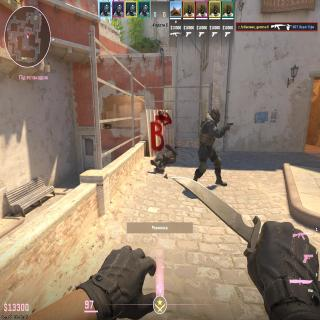CT-Body: (197, 107, 221, 185)
CT-Head: (211, 107, 220, 124)
